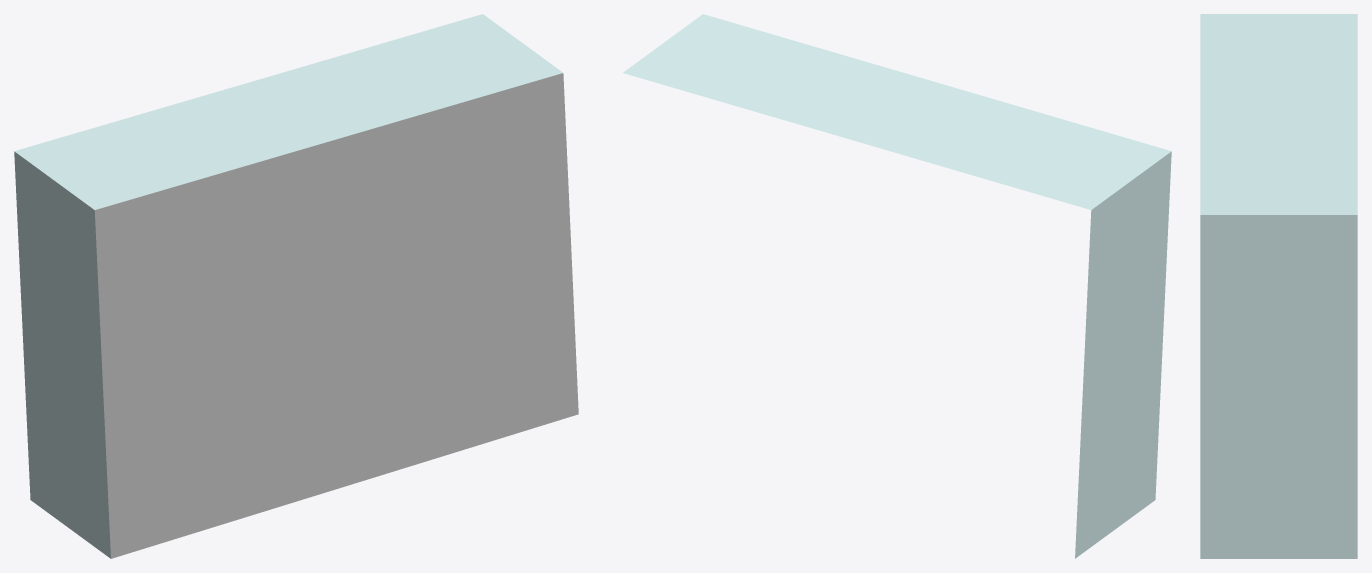
The picture shows the model from 3 angles, left to right: view 1: azimuth 30°, elevation 25°; view 2: azimuth 150°, elevation 25°; view 3: azimuth 270°, elevation 25°; orthographic projection. The views are drawn at different scales.
Parts seen in each view (by area): view 1: 0_0_2_0_2_0_2_2_0; view 2: 0_0_2_0_2_0_2_2_0; view 3: 0_0_2_0_2_0_2_2_0.
Boxes of the visible parts, x1,y1,x2,y2 form: 0_0_2_0_2_0_2_2_0: (14, 14, 578, 558); 0_0_2_0_2_0_2_2_0: (623, 14, 1171, 558); 0_0_2_0_2_0_2_2_0: (1200, 14, 1357, 558).
Bounding box in the file's own units: 10.41 × 7.72 × 3.
